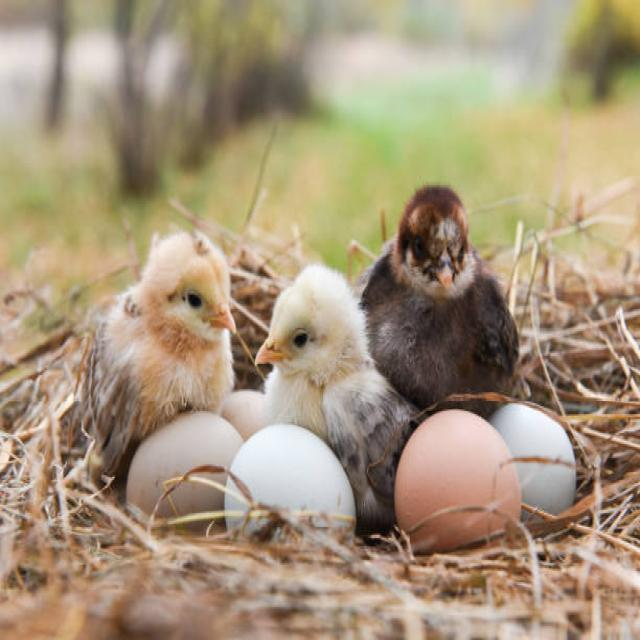Healthy: (249, 259, 421, 490), (369, 171, 526, 418), (80, 223, 244, 446)
